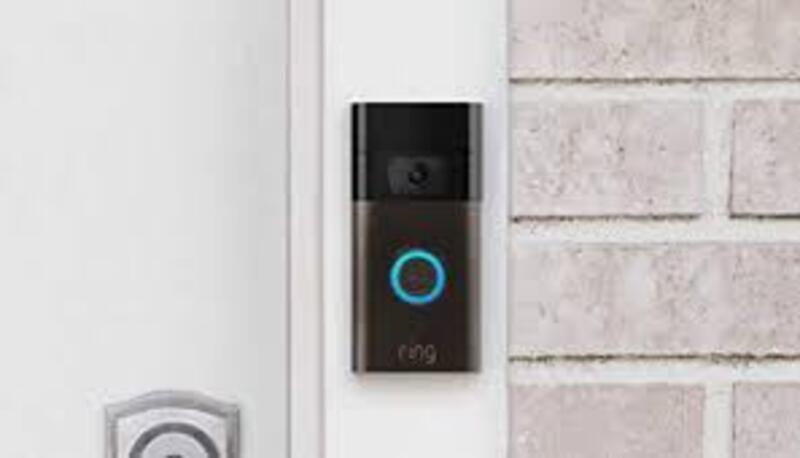doorbell: (339, 81, 488, 385)
